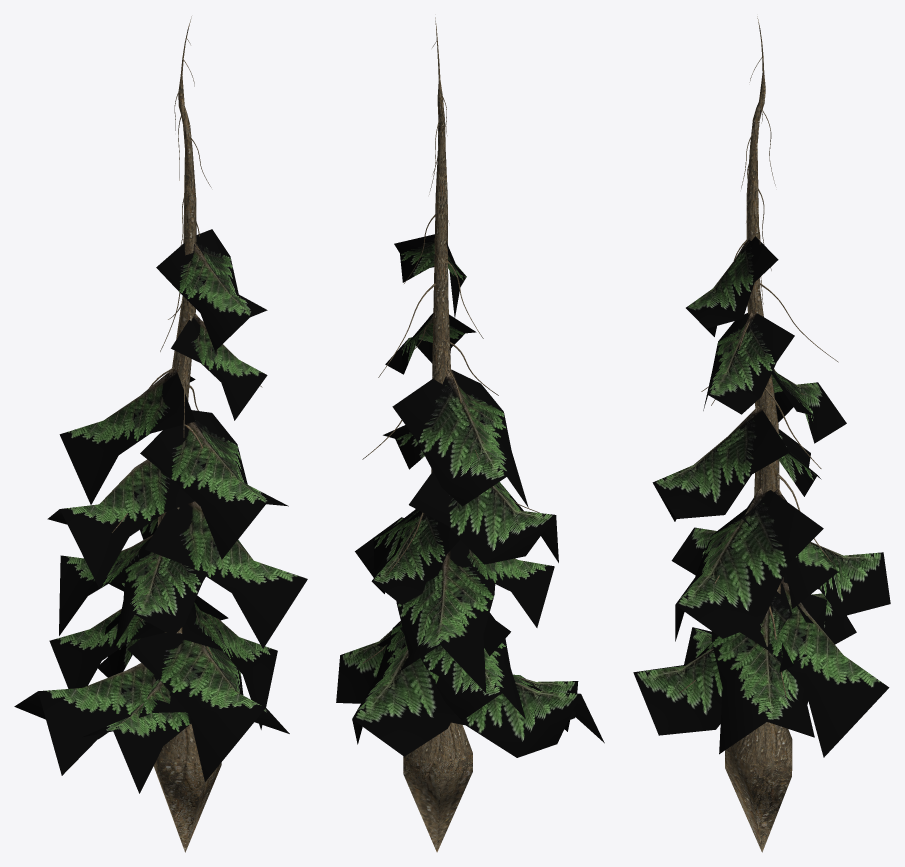
Rendered from forest_PineTree3.fbx.
3 views of the same model, side by side, from view 1: azimuth 30°, elevation 25°; view 2: azimuth 150°, elevation 25°; view 3: azimuth 270°, elevation 25° (orthographic).
Visible parts, largest first — view 1: RHE_SpruceC_Trunk; view 2: RHE_SpruceC_Trunk; view 3: RHE_SpruceC_Trunk.
Boxes of the visible parts, x1=… form: RHE_SpruceC_Trunk: x1=14, y1=16, x2=307, y2=852; RHE_SpruceC_Trunk: x1=336, y1=17, x2=604, y2=852; RHE_SpruceC_Trunk: x1=633, y1=16, x2=890, y2=852.
Bounding box in the file's own units: 13.9 × 44.93 × 12.46.
